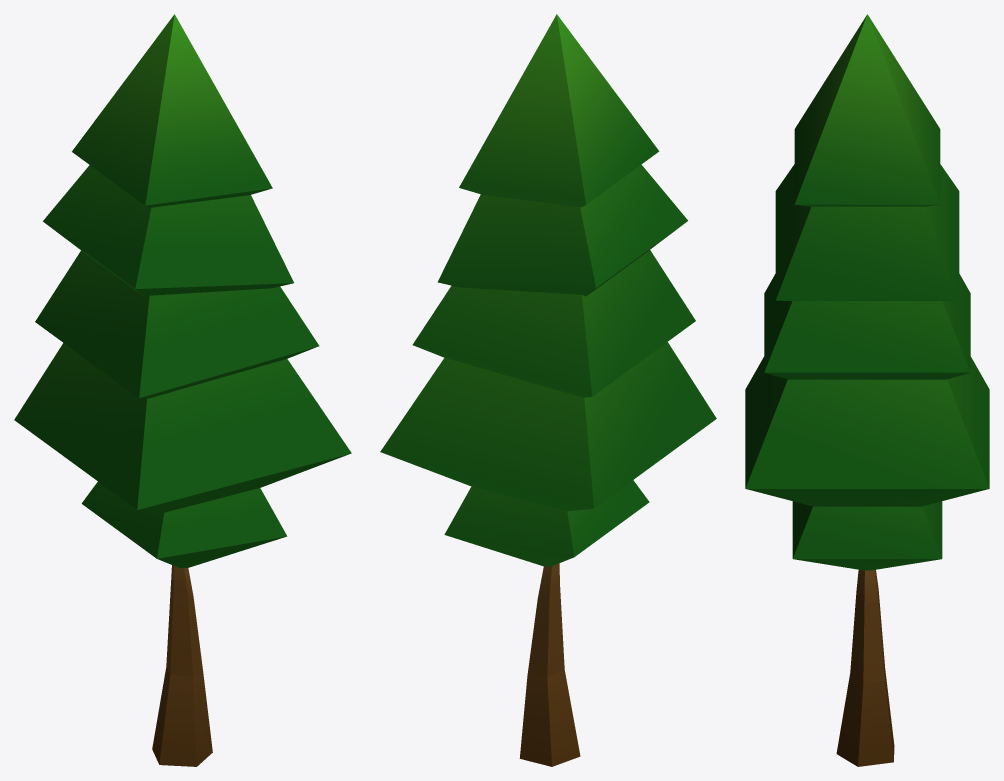
The model's file is LongTree.FBX.
3 renders of one model, left to right at view 1: azimuth 30°, elevation 25°; view 2: azimuth 150°, elevation 25°; view 3: azimuth 270°, elevation 25°, orthographic.
Visible parts, largest first — view 1: LongTree; view 2: LongTree; view 3: LongTree.
Part boxes in pixels (bbox=[...]): LongTree: bbox=[14, 14, 351, 766]; LongTree: bbox=[380, 14, 716, 766]; LongTree: bbox=[745, 14, 989, 766].
Size of the model in its own units: 113 by 372 by 112.
